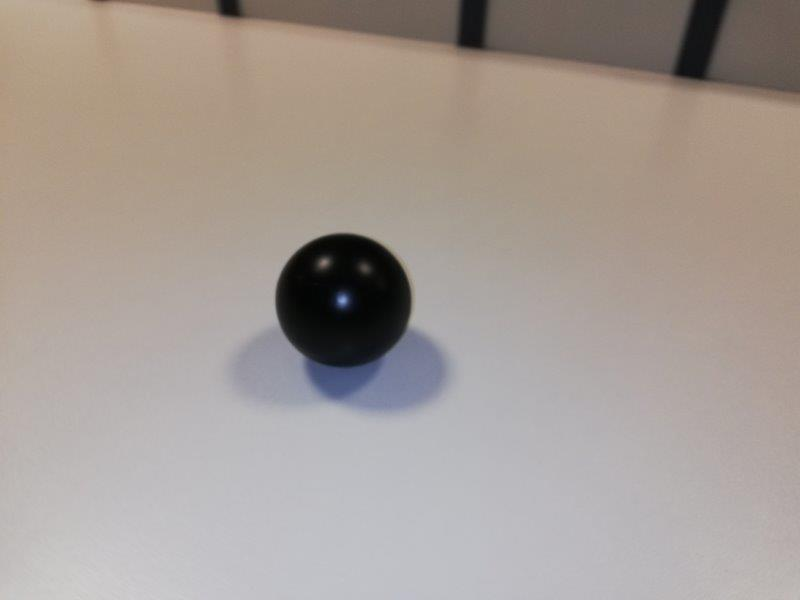nera: (277, 233, 413, 369)
